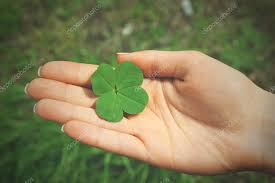4-clover: (88, 63, 149, 121)
